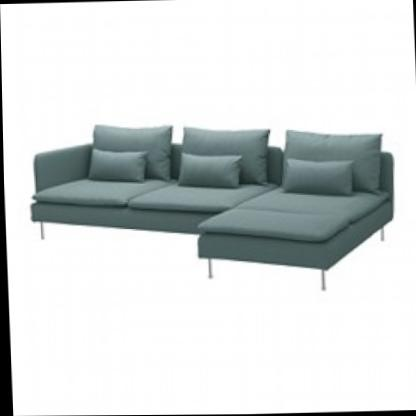Sofa: (20, 93, 403, 308)
